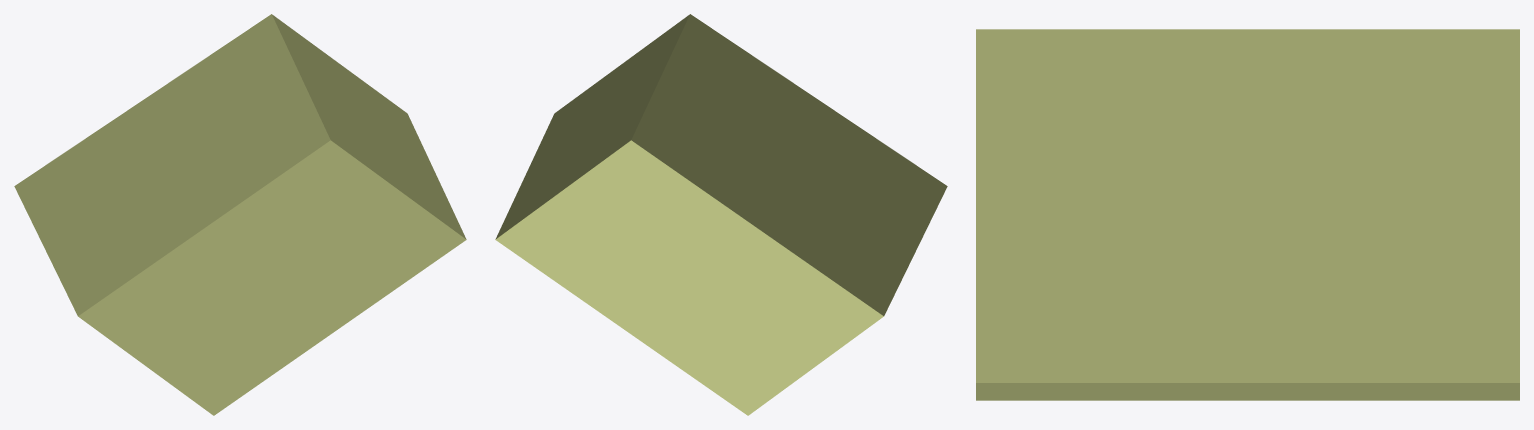
3 views of the same model, side by side, from view 1: azimuth 30°, elevation 25°; view 2: azimuth 150°, elevation 25°; view 3: azimuth 270°, elevation 25° (orthographic). The views are drawn at different scales.
Visible parts, largest first — view 1: 0_1_0_0_0_1_2_2_2_1; view 2: 0_1_0_0_0_1_2_2_2_1; view 3: 0_1_0_0_0_1_2_2_2_1.
Boxes of the visible parts, x1=… form: 0_1_0_0_0_1_2_2_2_1: x1=14, y1=14, x2=466, y2=415; 0_1_0_0_0_1_2_2_2_1: x1=495, y1=14, x2=947, y2=415; 0_1_0_0_0_1_2_2_2_1: x1=976, y1=29, x2=1519, y2=400.
Size of the model in its own units: 8.06 by 6.21 by 6.
